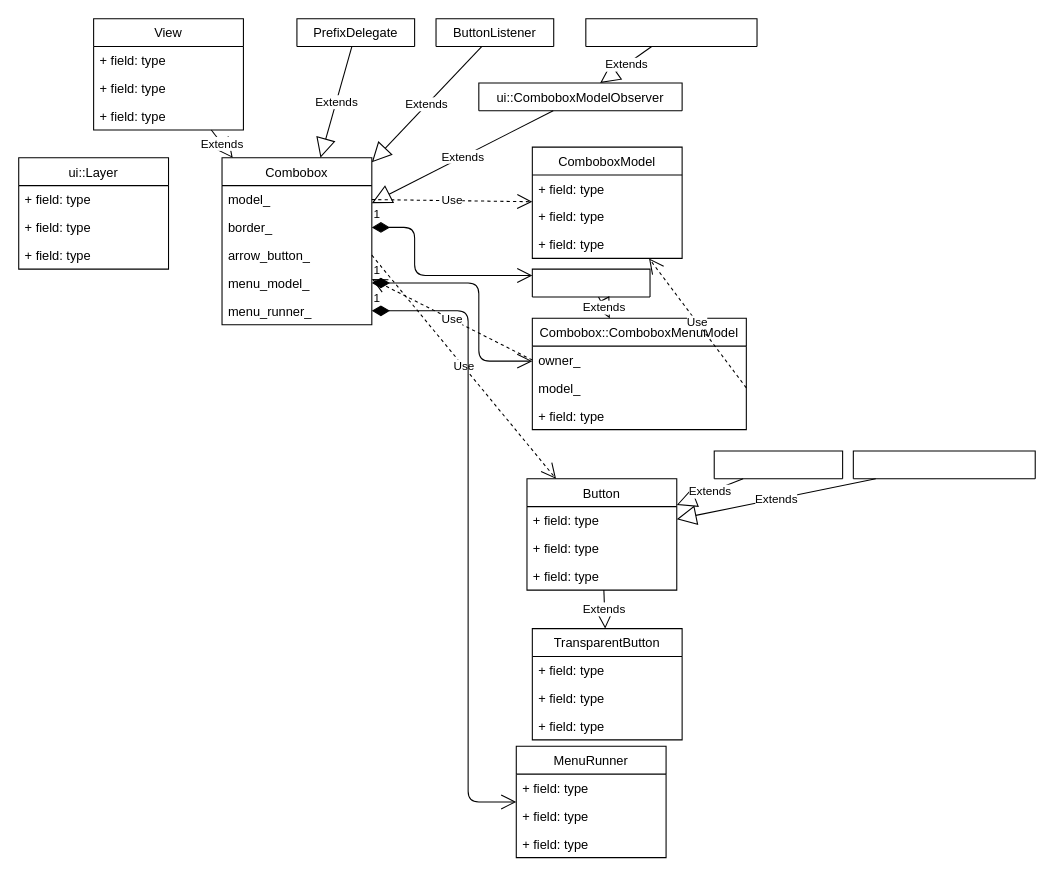
This 1054x880 diagram has some shape labels left out. The shapes that lost their labels are listed below. From the top down, each one's centre as x and y in pixels, then its label:
At point (671, 32): "base::CheckedObserver".
At point (590, 282): "ui::MenuModel".
At point (778, 464): "InkDropHostView".
At point (943, 464): "AnimationDelegateViews".
